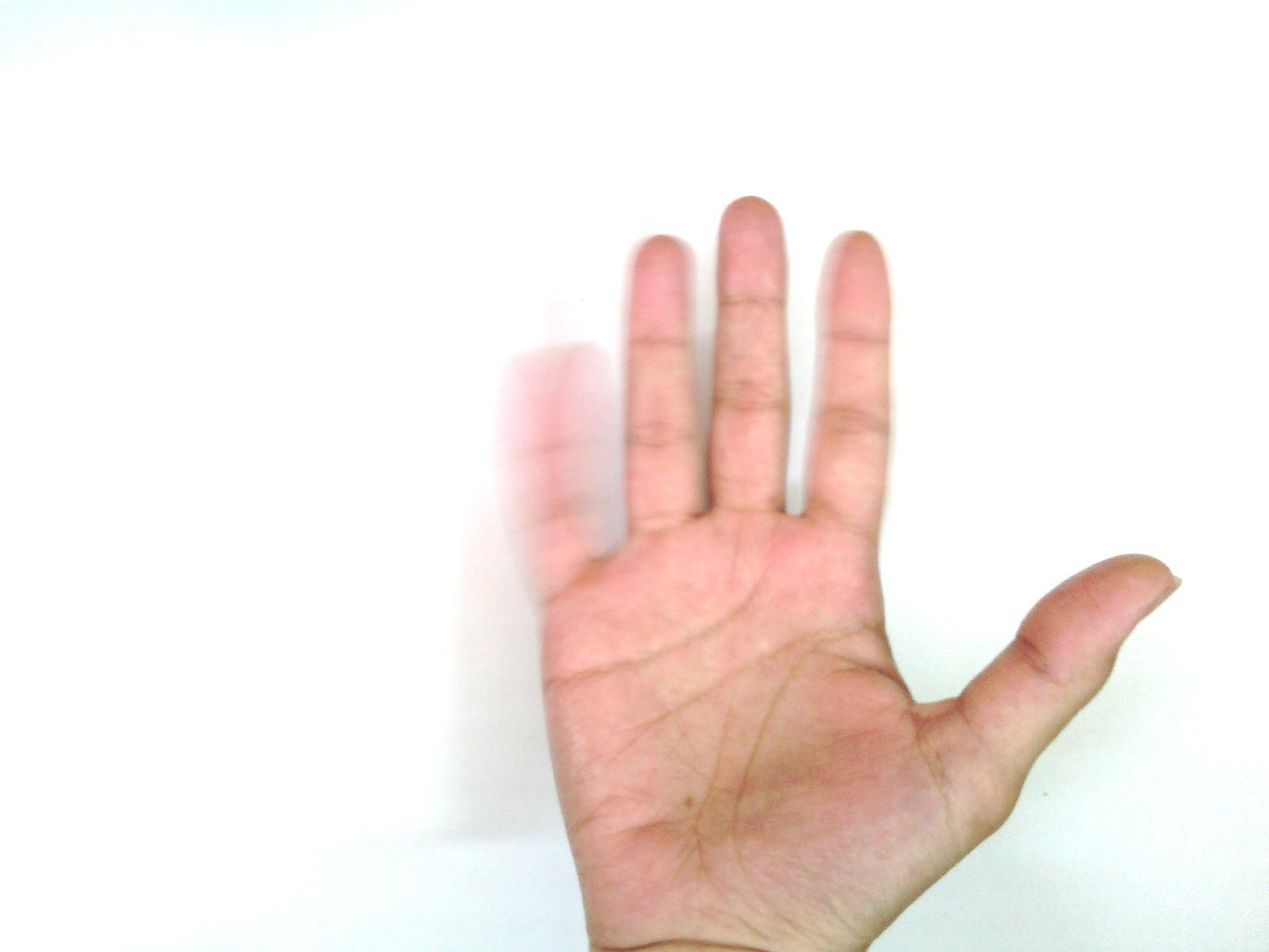open_palm: (493, 194, 1183, 951)
